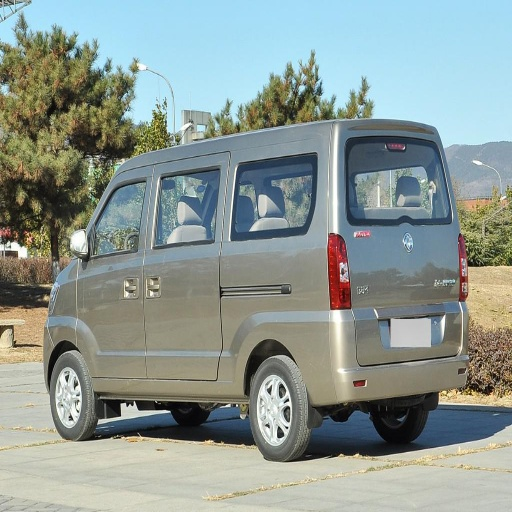back_bumper: (336, 344, 465, 402)
back_glass: (359, 137, 438, 219), (263, 155, 314, 193)
back_left_door: (179, 163, 223, 206)
back_left_light: (328, 236, 349, 306)
back_right_door: (81, 240, 145, 378)
front_left_door: (78, 169, 155, 330)
front_left_light: (252, 177, 314, 231)
trunk: (233, 225, 464, 403)
